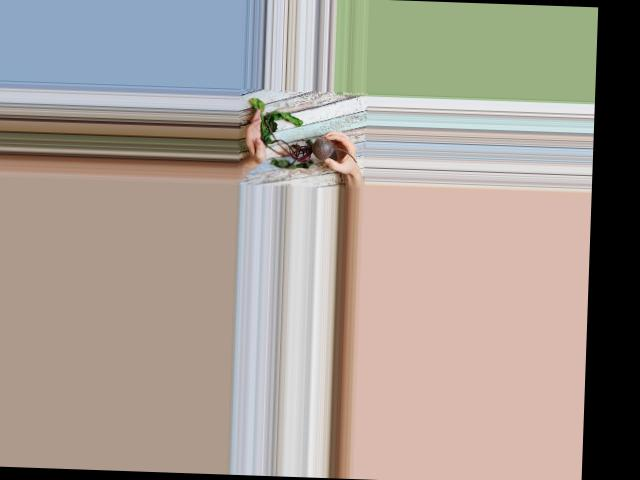beet: (247, 97, 359, 170)
